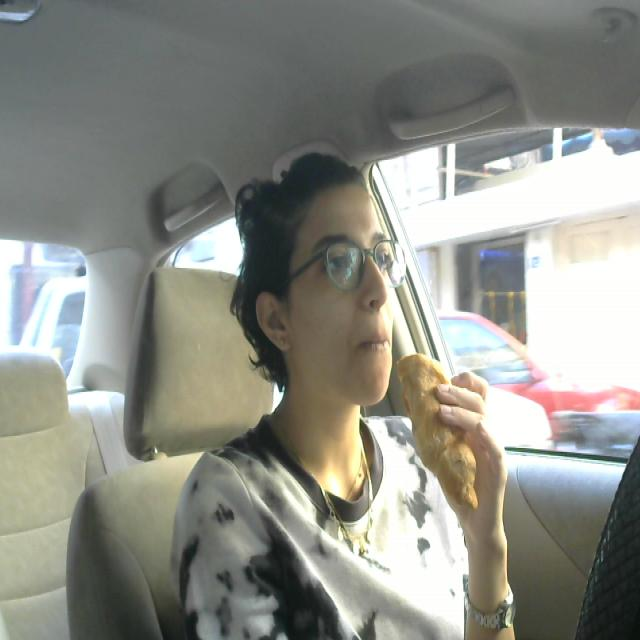eating: (391, 348, 489, 528)
